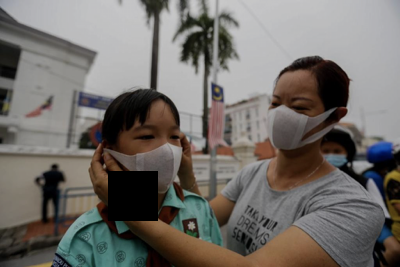with_mask: (120, 122, 184, 194), (266, 92, 323, 151)
